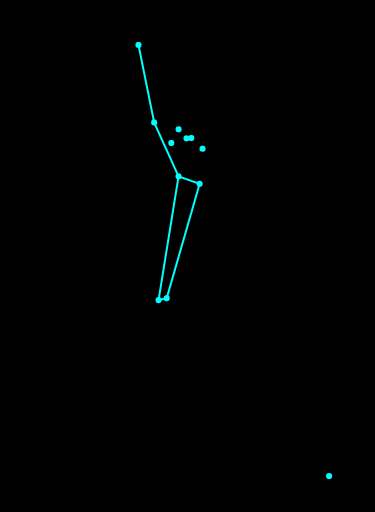warrior_1: (113, 22, 336, 485)
